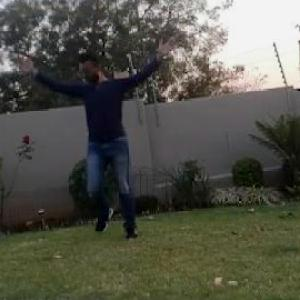takeoff: (13, 40, 178, 251)
